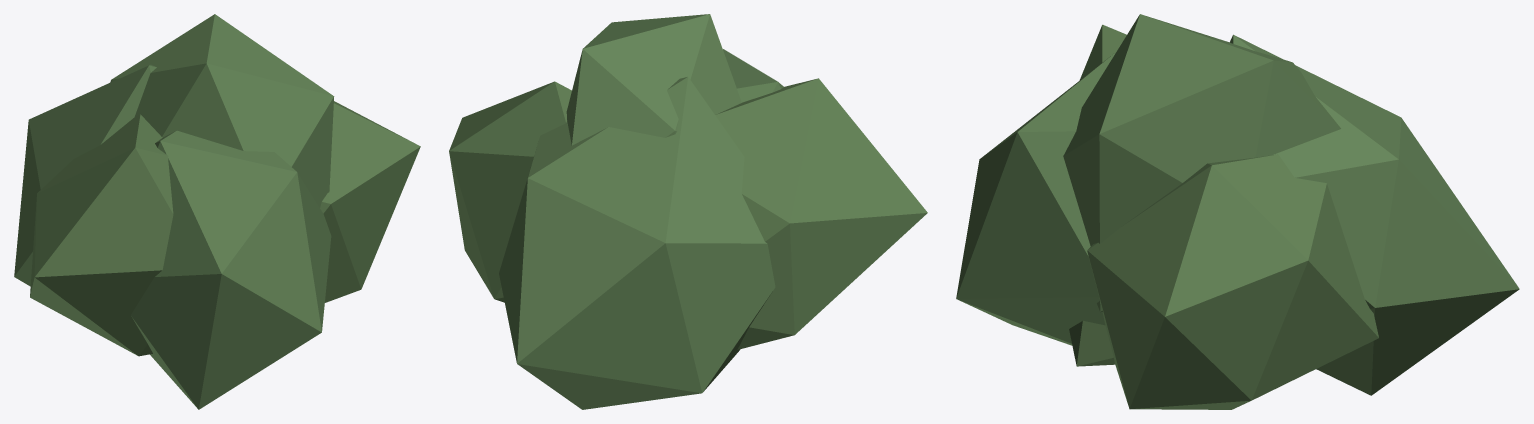
The model's file is v_bush.glb.
The picture shows the model from 3 angles, left to right: view 1: azimuth 30°, elevation 25°; view 2: azimuth 150°, elevation 25°; view 3: azimuth 270°, elevation 25°; orthographic projection. The views are drawn at different scales.
Parts seen in each view (by area): view 1: Bush; view 2: Bush; view 3: Bush.
Boxes of the visible parts, x1,y1,x2,y2 form: Bush: (14, 14, 420, 409); Bush: (449, 14, 927, 409); Bush: (956, 14, 1519, 409).
Bounding box in the file's own units: 2.17 × 1.55 × 2.15.
